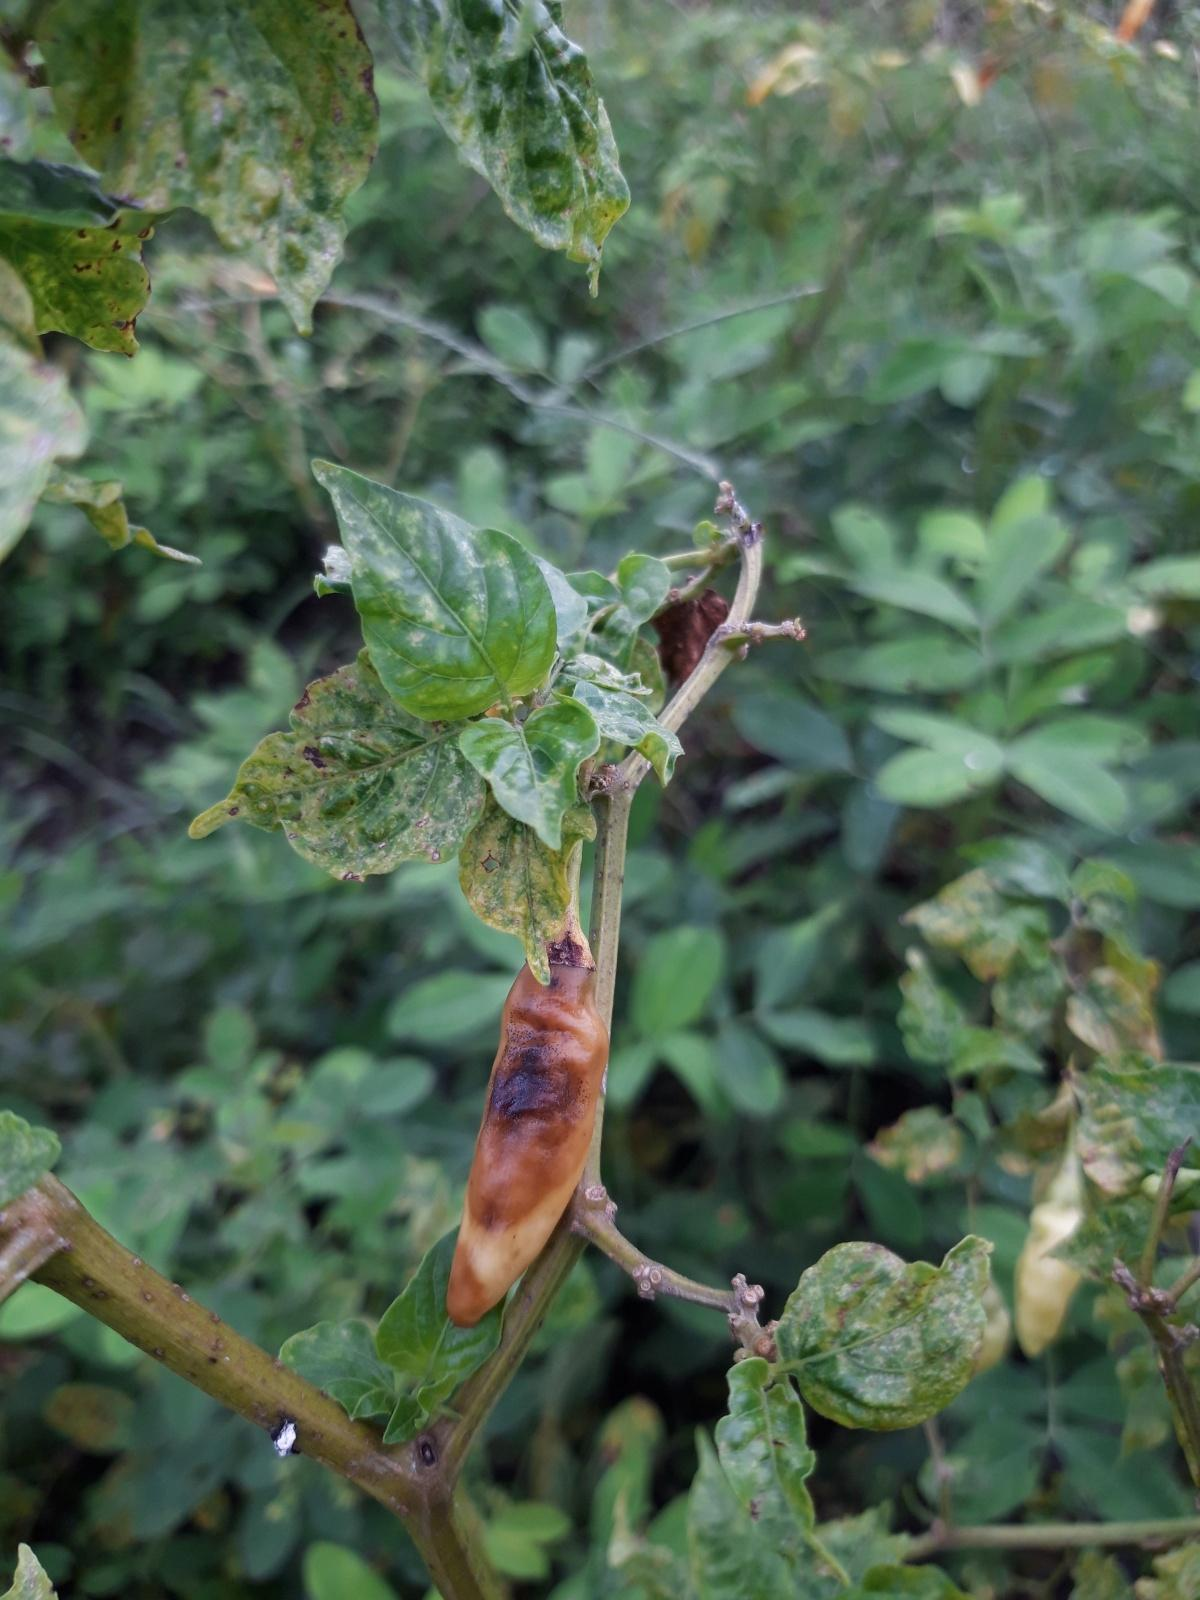lalat_buah: (442, 944, 613, 1327)
